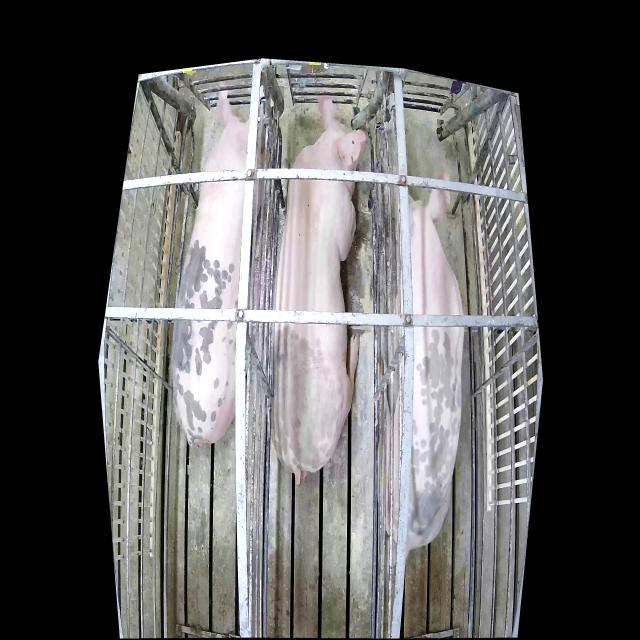pig: (272, 96, 370, 487), (170, 90, 270, 446), (384, 176, 464, 550)
